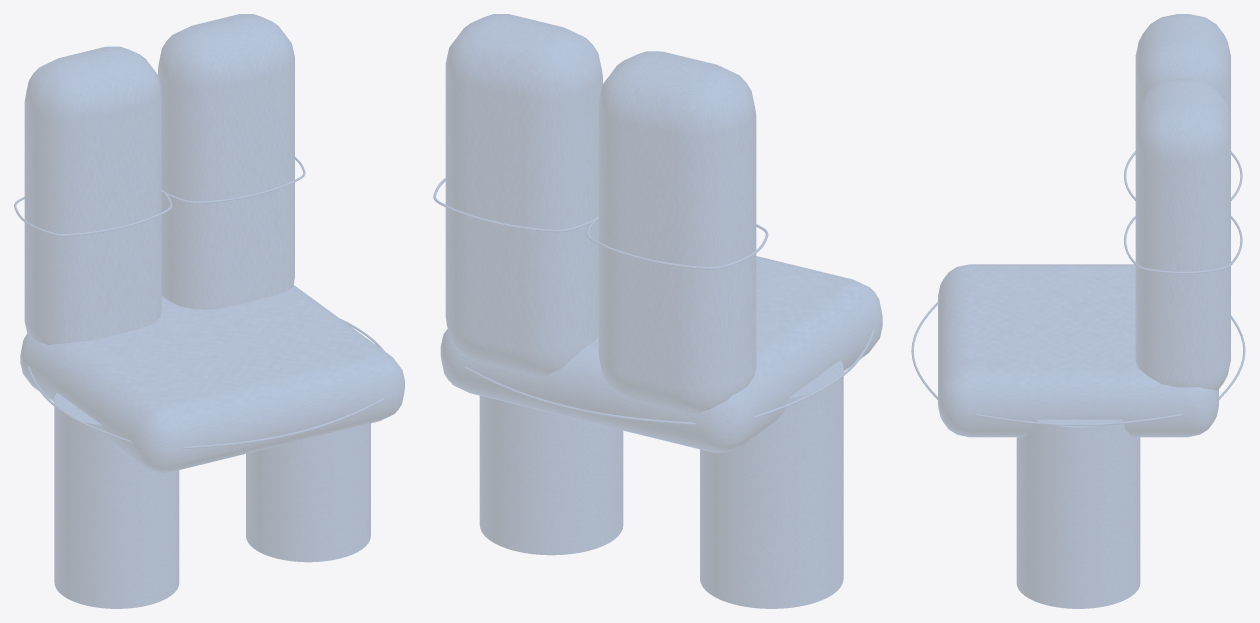
File: ref04_06.glb
3 renders of one model, left to right at view 1: azimuth 30°, elevation 25°; view 2: azimuth 150°, elevation 25°; view 3: azimuth 270°, elevation 25°, orthographic. The views are drawn at different scales.
Parts seen in each view (by area): view 1: ref04_06; view 2: ref04_06; view 3: ref04_06.
Part boxes in pixels (x1=…): ref04_06: x1=14, y1=14, x2=404, y2=608; ref04_06: x1=433, y1=14, x2=882, y2=608; ref04_06: x1=911, y1=14, x2=1245, y2=608.
Size of the model in its own units: 0.7402 by 1.1 by 0.7014.
1 material, 1 textured.
